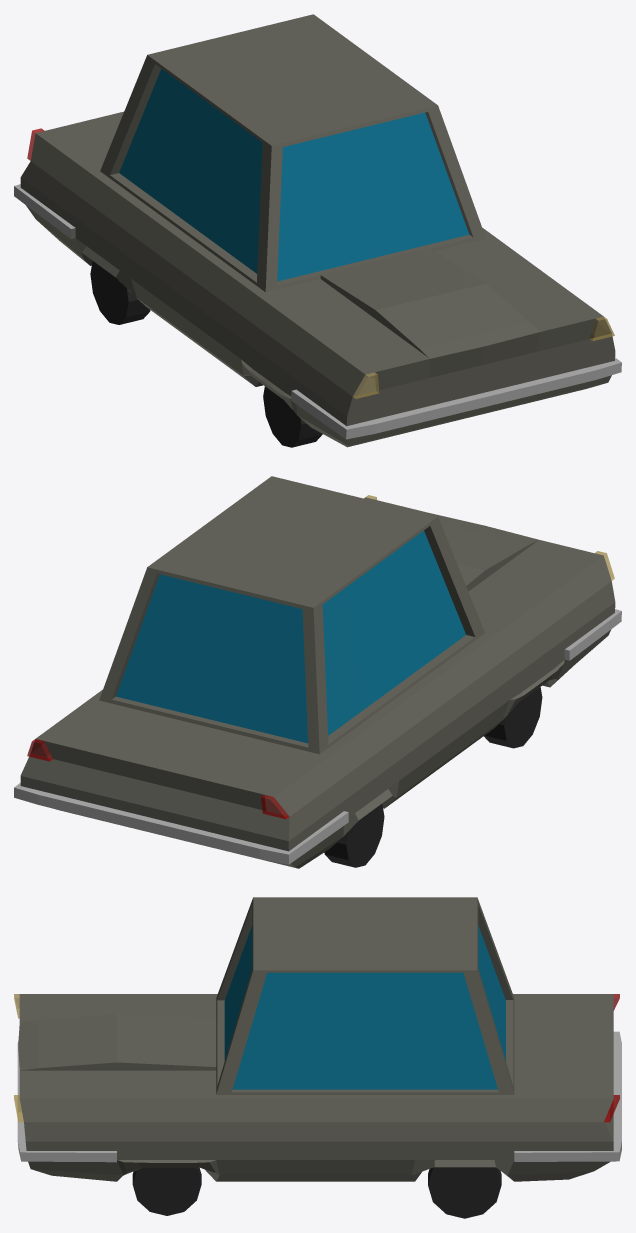
Rendered from lowpolycar.fbx.
3 renders of one model, top to bottom at view 1: azimuth 30°, elevation 25°; view 2: azimuth 150°, elevation 25°; view 3: azimuth 270°, elevation 25°, orthographic. The views are drawn at different scales.
Visible parts, largest first — view 1: car, wheel_back_right, wheel_front_right; view 2: car, wheel_back_right, wheel_front_right; view 3: car, wheel_back_left, wheel_front_left.
Boxes of the visible parts, <box> form: car: <box>14,14,621,447</box>; wheel_back_right: <box>90,261,150,324</box>; wheel_front_right: <box>263,386,322,447</box>; car: <box>14,476,621,868</box>; wheel_back_right: <box>324,803,384,867</box>; wheel_front_right: <box>484,687,542,748</box>; car: <box>14,897,621,1181</box>; wheel_back_left: <box>428,1167,501,1218</box>; wheel_front_left: <box>132,1168,201,1215</box>.
Bounding box in the file's own units: 97.84 × 85.75 × 206.
